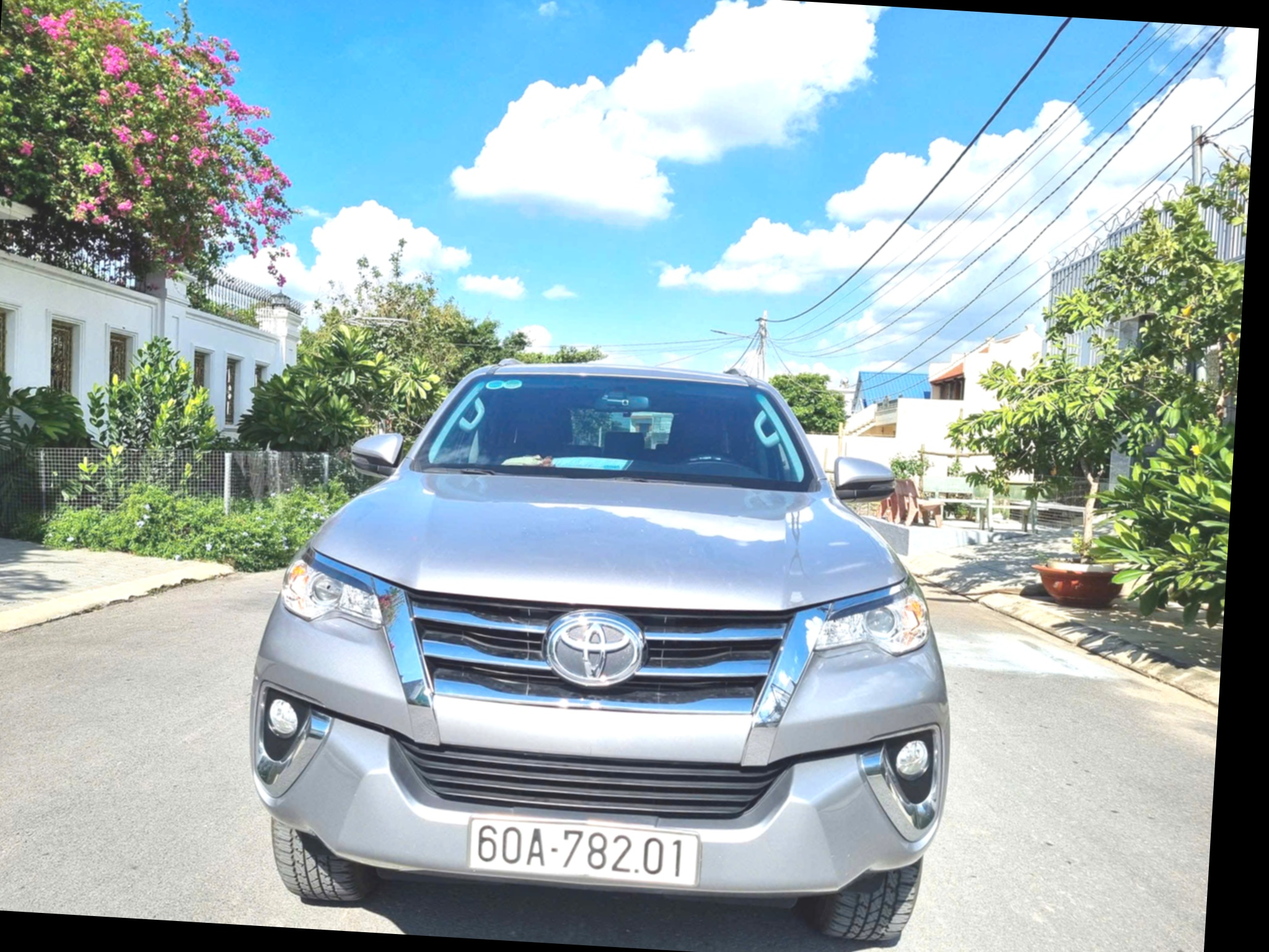Bien-so: (549, 815, 805, 901)
